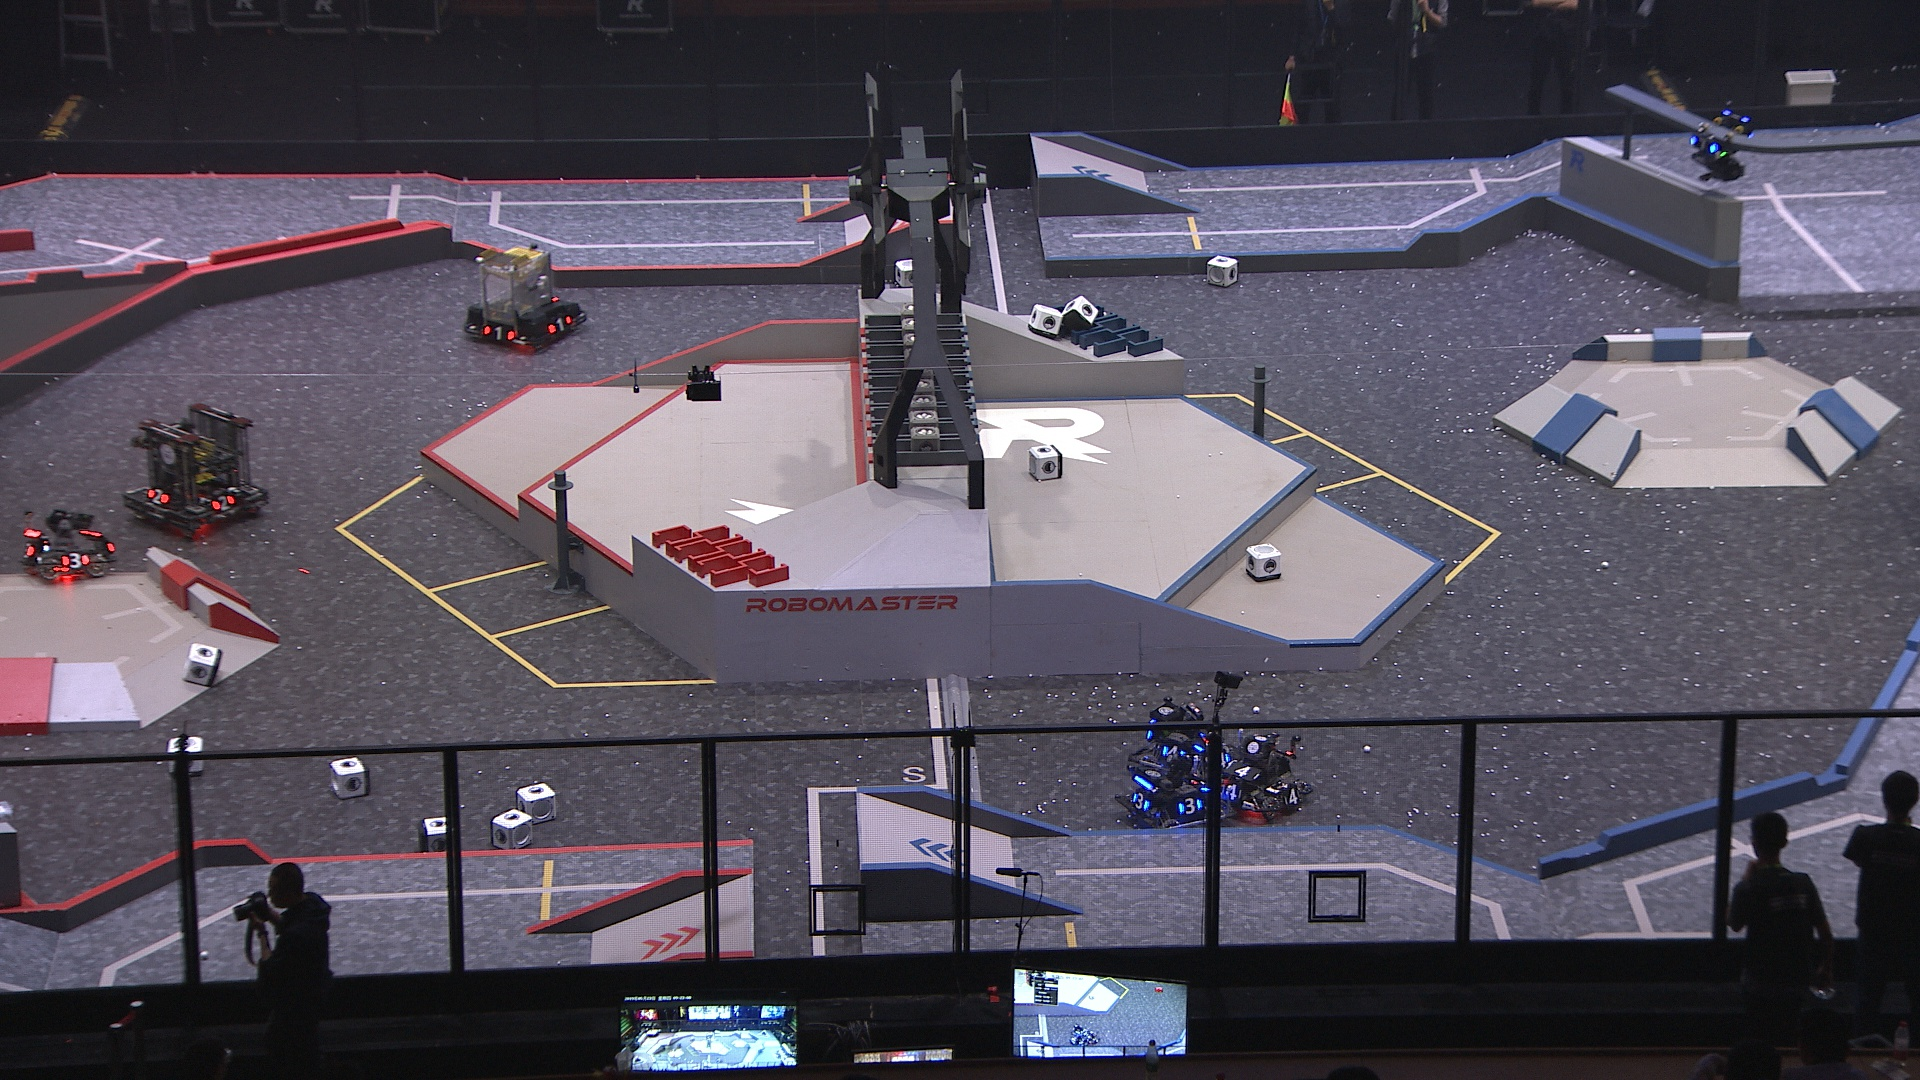armor: (1688, 131, 1718, 157), (1226, 760, 1258, 782), (546, 314, 574, 338), (481, 323, 514, 343), (1280, 785, 1302, 811), (61, 553, 91, 568), (1220, 783, 1245, 802), (211, 495, 233, 514), (1131, 789, 1150, 812), (144, 487, 167, 505), (1178, 796, 1203, 814), (22, 541, 40, 562), (1163, 744, 1185, 760), (1215, 752, 1230, 769)
car: (124, 404, 268, 538), (465, 243, 593, 352), (1215, 727, 1309, 823), (1138, 695, 1240, 775), (17, 508, 119, 585), (1127, 760, 1240, 828)
watcher: (1687, 105, 1756, 182)
